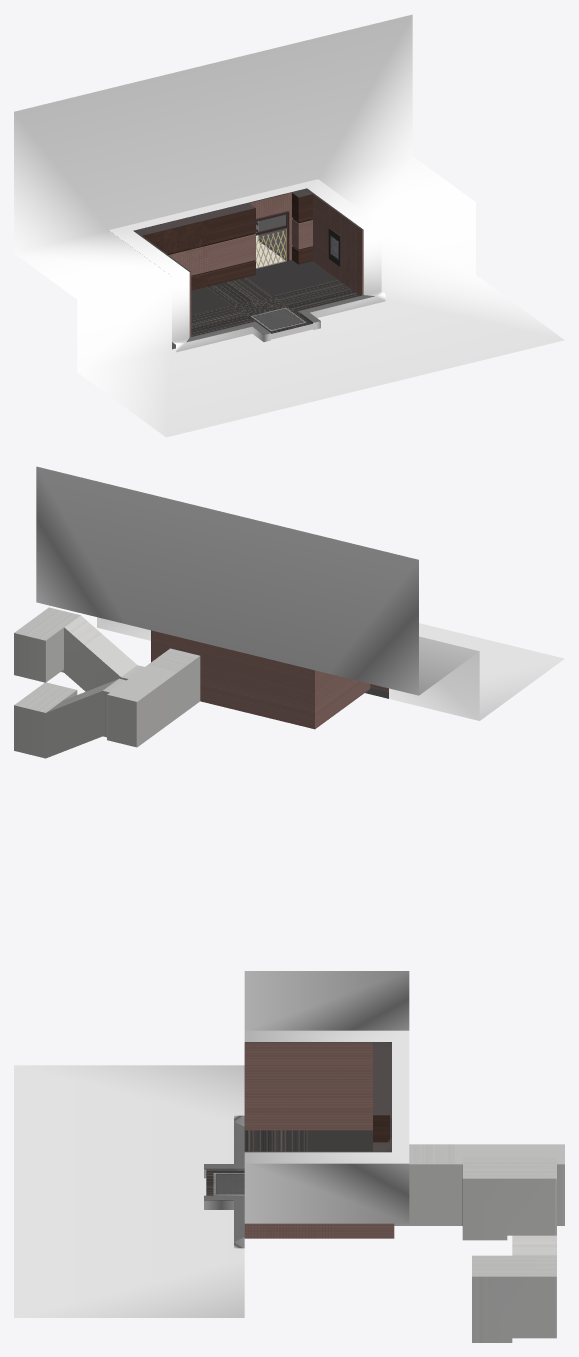
The model's file is a_com_house_b01.gltf.
3 renders of one model, top to bottom at view 1: azimuth 30°, elevation 25°; view 2: azimuth 150°, elevation 25°; view 3: azimuth 270°, elevation 25°, orthographic. The views are drawn at different scales.
Parts seen in each view (by area): view 1: a_com_house_b01_outsideblank01_mesh_shape:a_com_house_b01_ou, um_a_com_house_b01_model_a_com_house_b01_modelShape:a_com_ho (×8), nomerge_outside_edge_shape:mat_texture_edge02, a_com_house_b01_ceiling01_mesh_shape:a_com_house_b01_ceiling; view 2: a_com_house_b01_outsideblank01_mesh_shape:a_com_house_b01_ou, um_a_com_house_b01_model_a_com_house_b01_modelShape:a_com_ho (×2); view 3: a_com_house_b01_outsideblank01_mesh_shape:a_com_house_b01_ou, um_a_com_house_b01_model_a_com_house_b01_modelShape:a_com_ho (×5), nomerge_outside_edge_shape:mat_texture_edge02, a_com_house_b01_ceiling01_mesh_shape:a_com_house_b01_ceiling.
Boxes of the visible parts, <box> form: a_com_house_b01_outsideblank01_mesh_shape:a_com_house_b01_ou: <box>14,14,564,437</box>; um_a_com_house_b01_model_a_com_house_b01_modelShape:a_com_ho (×8): <box>142,193,374,349</box>; nomerge_outside_edge_shape:mat_texture_edge02: <box>109,179,385,352</box>; a_com_house_b01_ceiling01_mesh_shape:a_com_house_b01_ceiling: <box>133,188,363,271</box>; a_com_house_b01_outsideblank01_mesh_shape:a_com_house_b01_ou: <box>36,466,564,720</box>; um_a_com_house_b01_model_a_com_house_b01_modelShape:a_com_ho (×2): <box>14,607,388,758</box>; a_com_house_b01_outsideblank01_mesh_shape:a_com_house_b01_ou: <box>14,971,409,1317</box>; um_a_com_house_b01_model_a_com_house_b01_modelShape:a_com_ho (×5): <box>204,1043,564,1342</box>; nomerge_outside_edge_shape:mat_texture_edge02: <box>204,1030,409,1248</box>; a_com_house_b01_ceiling01_mesh_shape:a_com_house_b01_ceiling: <box>244,1042,391,1152</box>.
Bounding box in the file's own units: 28 × 16.77 × 25.8.
Materials: 20 (18 with a texture image).
